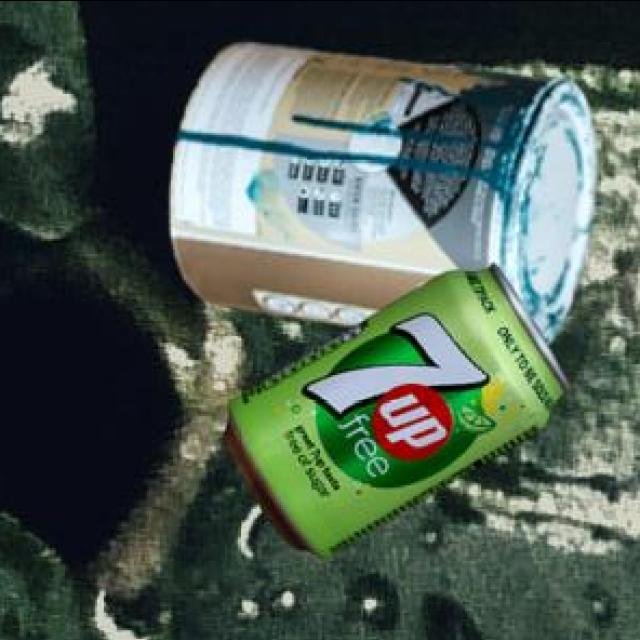logam: (168, 44, 594, 347), (222, 267, 568, 559)
